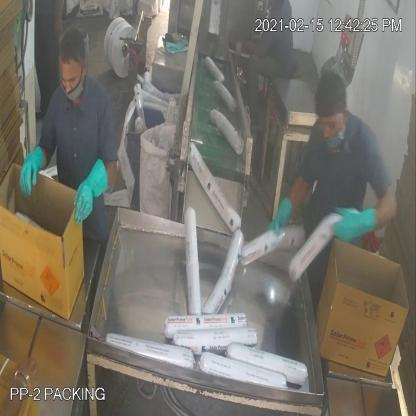glove: (63, 151, 112, 236), (331, 202, 386, 247), (15, 136, 49, 201)
